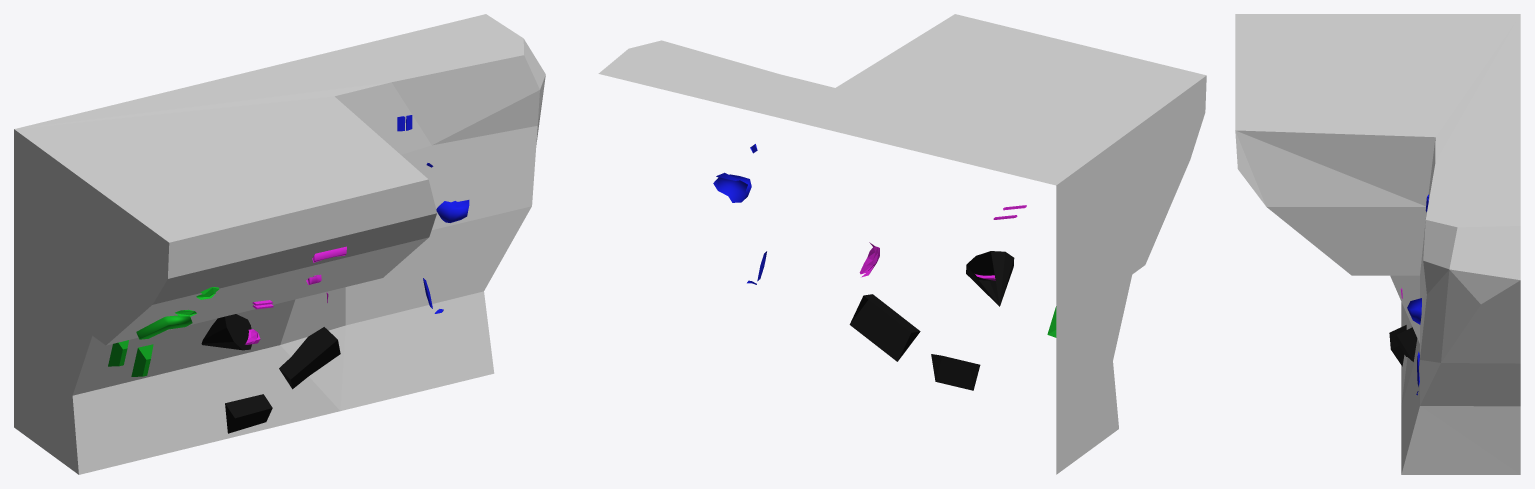
File: wall-transformed.glb
3 renders of one model, left to right at view 1: azimuth 30°, elevation 25°; view 2: azimuth 150°, elevation 25°; view 3: azimuth 270°, elevation 25°, orthographic. The views are drawn at different scales.
Parts seen in each view (by area): view 1: Cube.002, Cylinder, Cone, Cylinder.001, Cube.004, Icosphere; view 2: Cube.002, Cylinder, Cone, Cylinder.001, Icosphere; view 3: Cube.002, Cylinder, Cylinder.001.
Boxes of the visible parts, x1,y1,x2,y2 form: Cube.002: (14, 14, 545, 474); Cylinder: (279, 327, 340, 389); Cone: (201, 314, 251, 350); Cylinder.001: (225, 394, 272, 433); Cube.004: (136, 315, 192, 339); Icosphere: (436, 200, 469, 222); Cube.002: (598, 14, 1206, 474); Cylinder: (849, 294, 920, 361); Cone: (966, 251, 1014, 306); Cylinder.001: (931, 354, 980, 390); Icosphere: (713, 172, 751, 202); Cube.002: (1235, 14, 1520, 474); Cylinder: (1395, 327, 1417, 361); Cylinder.001: (1389, 325, 1406, 366).
Bounding box in the file's own units: 5.87 × 3.37 × 3.17.
